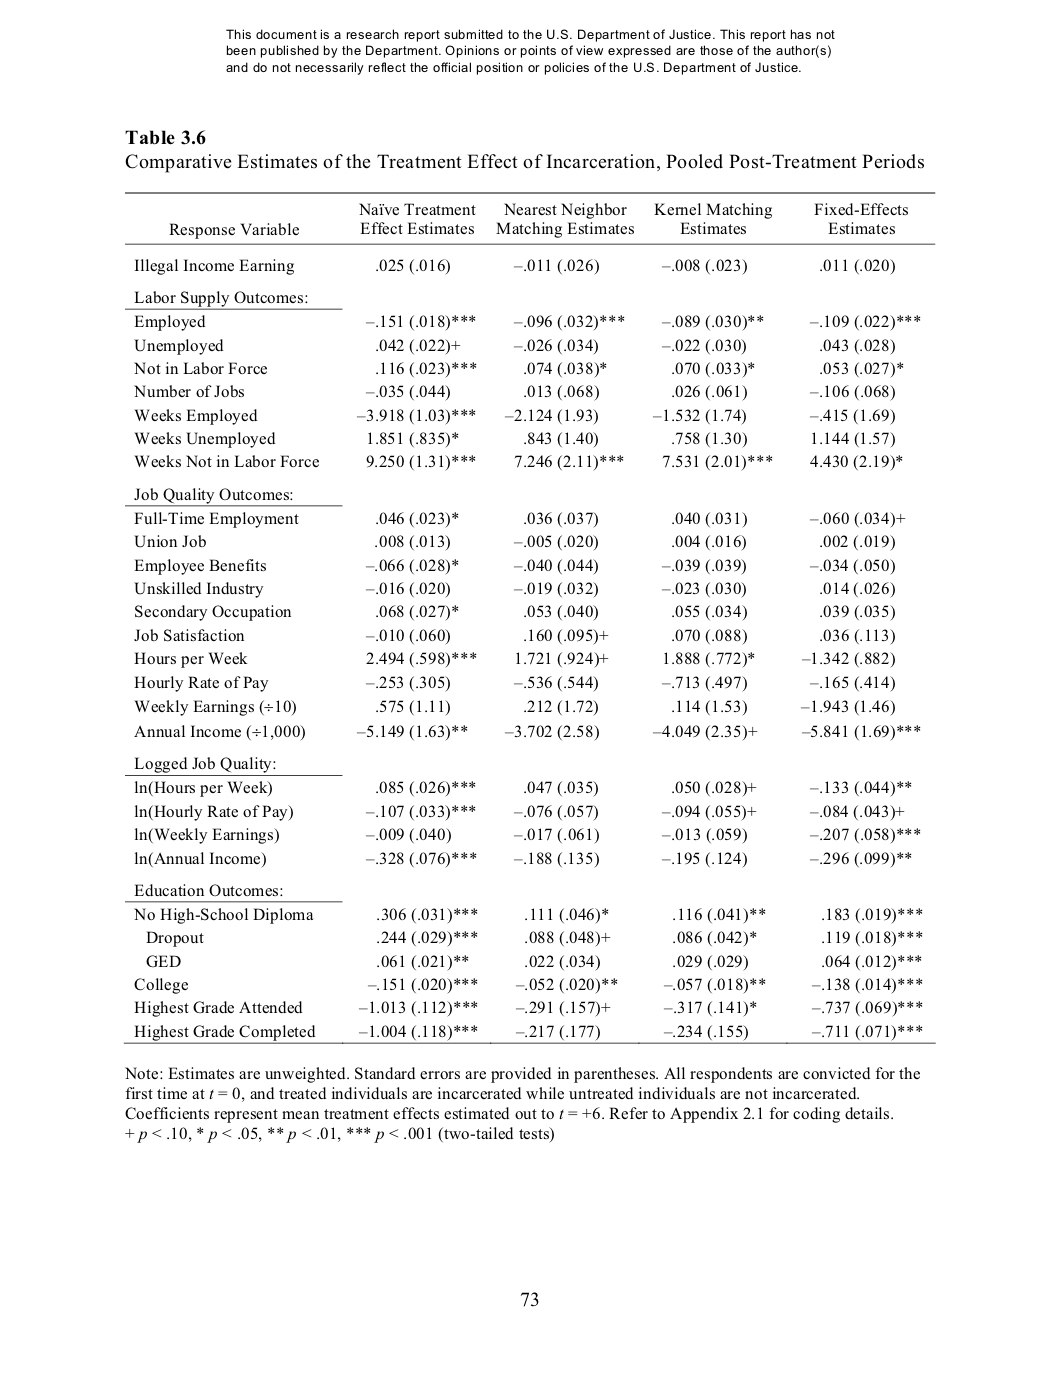Table: (123, 192, 935, 1043)
